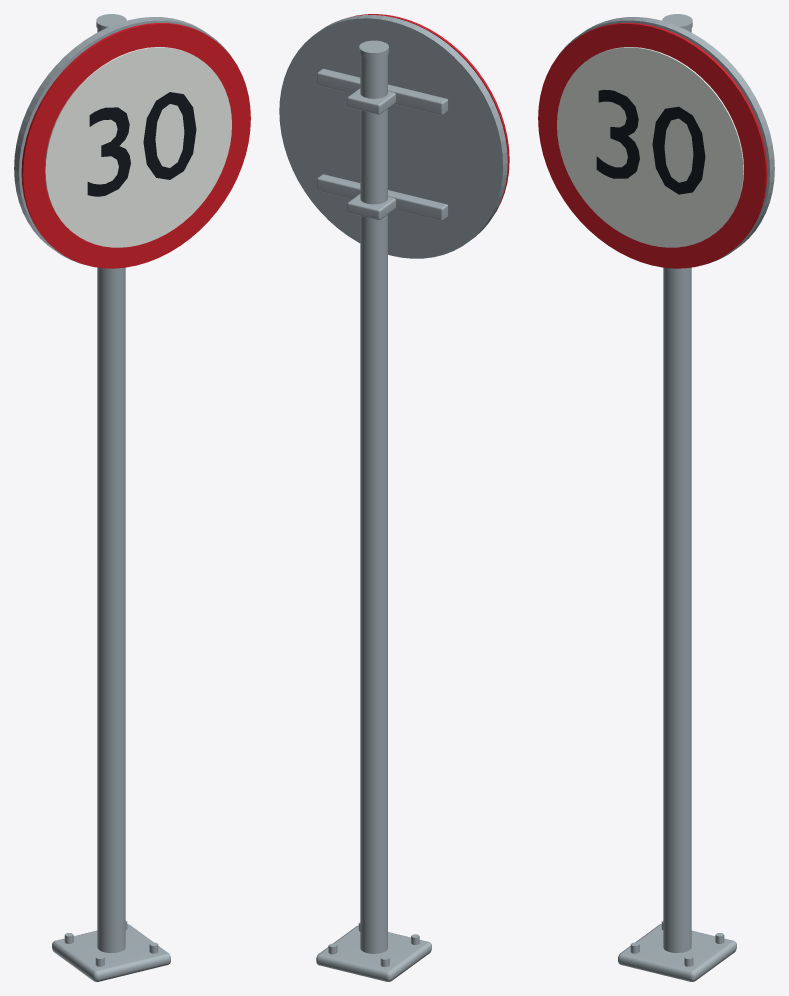
The model's file is DS_Sign_Speed30.glb.
3 renders of one model, left to right at view 1: azimuth 30°, elevation 25°; view 2: azimuth 150°, elevation 25°; view 3: azimuth 330°, elevation 25°, orthographic. The views are drawn at different scales.
Parts seen in each view (by area): view 1: Face_Field.003, Post.003, Face_Border.003, Legend_30, BasePlate.003, Plate_Back.003; view 2: Plate_Back.003, Post.003, BasePlate.003, RearRail.007, RearRail.006, PostClamp.007, PostClamp.006, Face_Border.003; view 3: Face_Field.003, Post.003, Face_Border.003, Legend_30, BasePlate.003, Plate_Back.003.
Boxes of the visible parts, x1,y1,x2,y2 form: Face_Field.003: (45,47,231,247); Post.003: (97,28,125,952); Face_Border.003: (21,23,250,268); Legend_30: (87,92,196,196); BasePlate.003: (52,924,170,981); Plate_Back.003: (14,17,230,263); Plate_Back.003: (279,15,507,258); Post.003: (360,55,387,953); BasePlate.003: (316,925,431,981); RearRail.007: (317,68,448,115); RearRail.006: (317,174,448,220); PostClamp.007: (347,88,395,114); PostClamp.006: (347,194,395,219); Face_Border.003: (354,14,509,212); Face_Field.003: (557,47,743,247); Post.003: (663,28,691,952); Face_Border.003: (538,23,767,268); Legend_30: (596,89,705,194); BasePlate.003: (618,924,736,981); Plate_Back.003: (558,17,774,263).
Size of the model in its own units: 0.71 by 2.81 by 0.2727.
